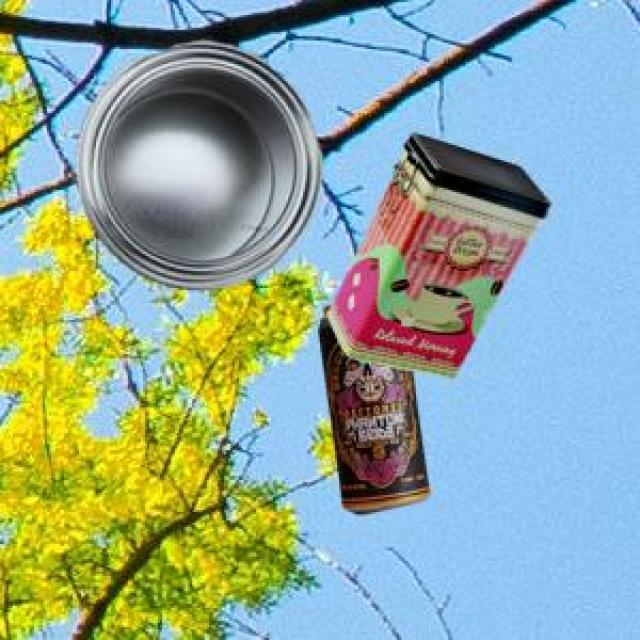Can: (74, 37, 319, 287), (325, 131, 547, 374), (317, 302, 426, 511)
